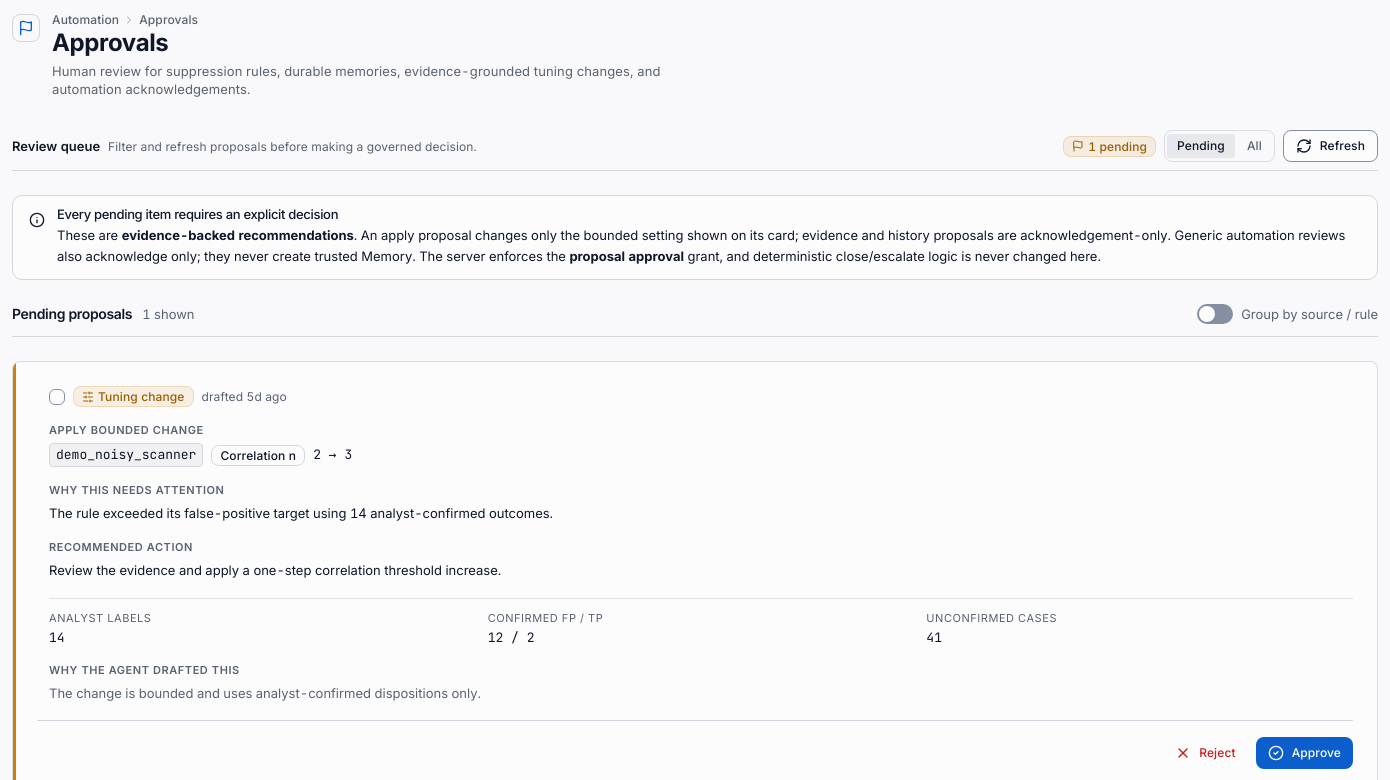
Scenario: Approvals tuning proposals › uses the normalized approved proposal response to remove the pending item
Expected: the text "demo_noisy_scanner" is shown, [49,443,203,467]
Click the button "Approve": [1304, 753] box [1256,737,1353,769]
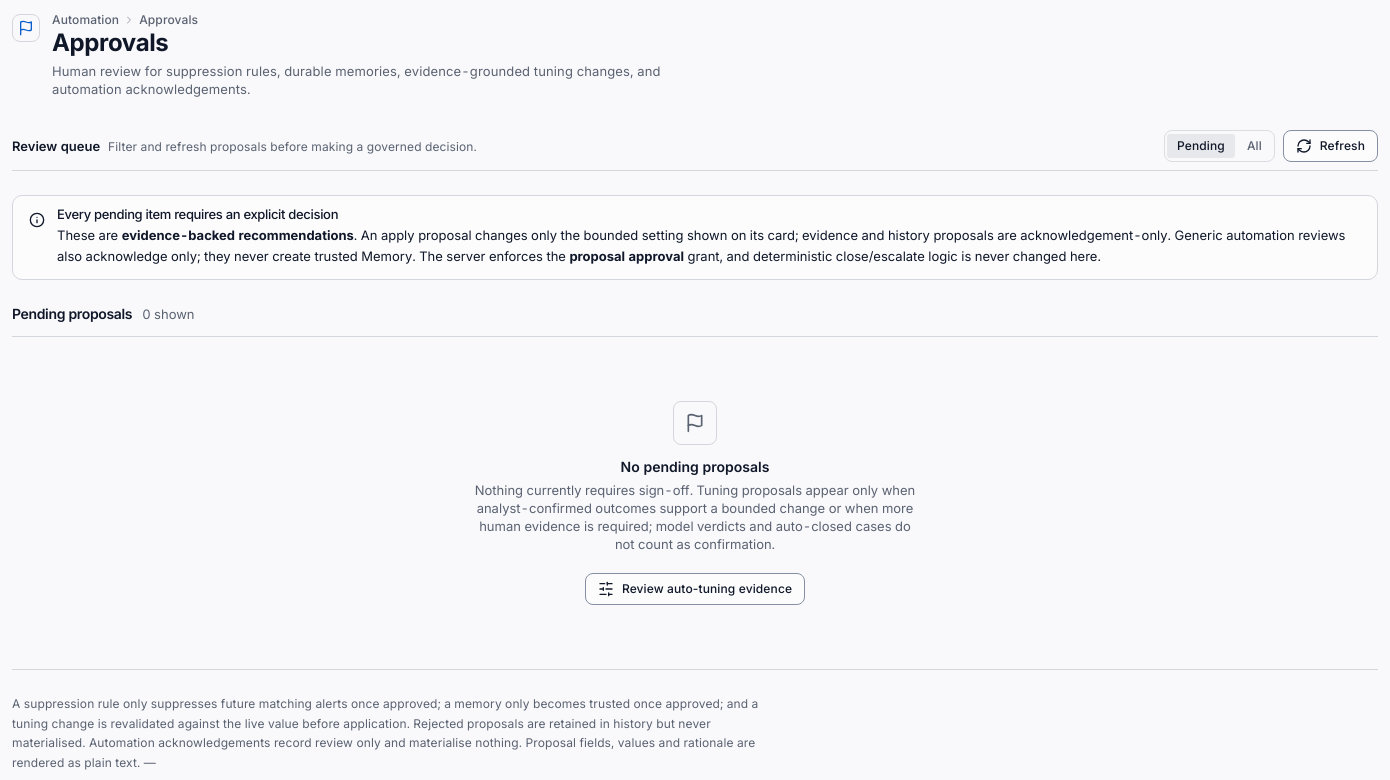
Expected: the text "demo_noisy_scanner" is gone
Expected: the text "No pending proposals" is shown, [621,458,769,475]
